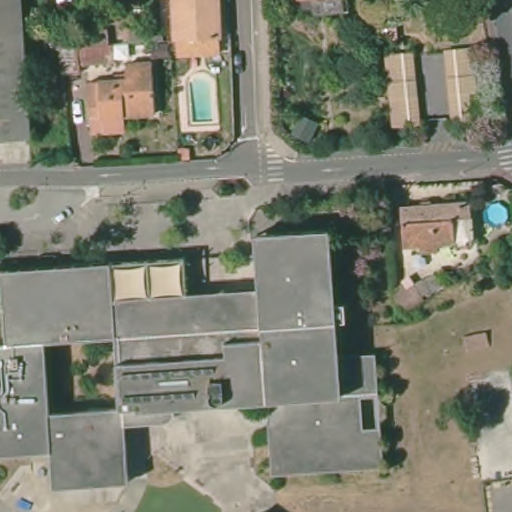pool: (184, 74, 219, 125), (484, 198, 508, 230)
